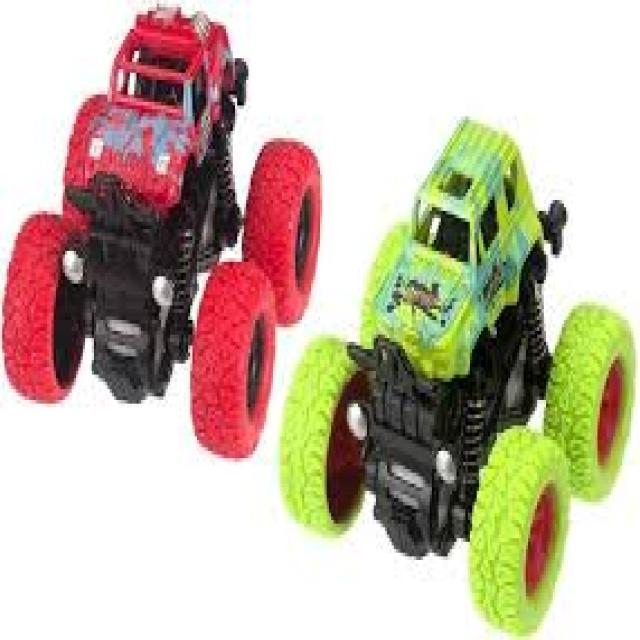Car: (278, 112, 636, 632), (0, 0, 320, 458)
